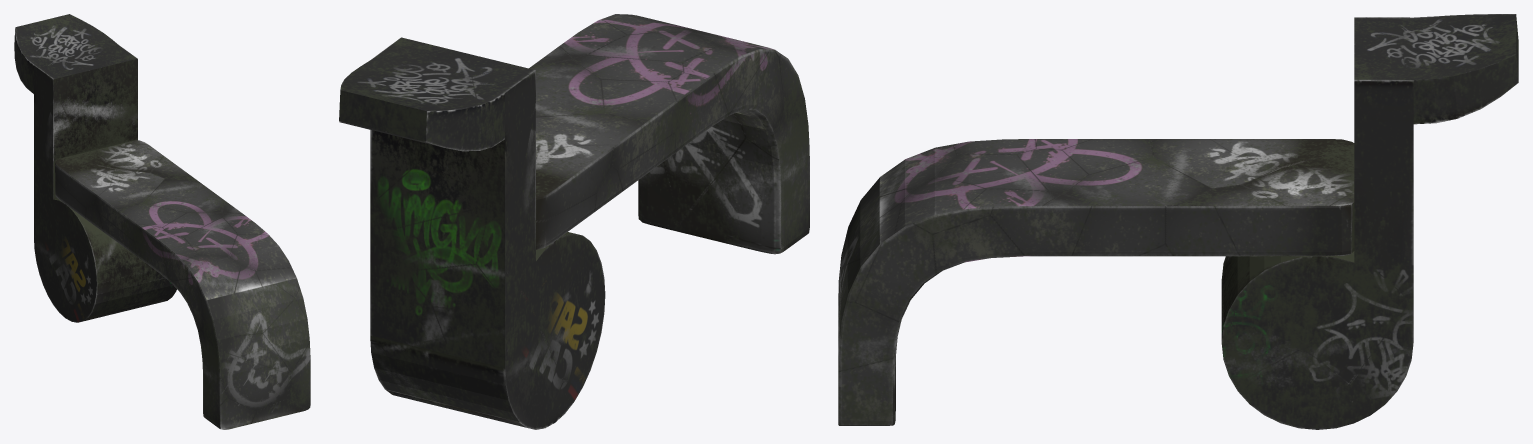
Rendered from Ext_BancoDecorativo.glb.
3 views of the same model, side by side, from view 1: azimuth 30°, elevation 25°; view 2: azimuth 150°, elevation 25°; view 3: azimuth 270°, elevation 25° (orthographic). The views are drawn at different scales.
Visible parts, largest first — view 1: Ext_BancoDecorativo; view 2: Ext_BancoDecorativo; view 3: Ext_BancoDecorativo.
Boxes of the visible parts, x1,y1,x2,y2 form: Ext_BancoDecorativo: [14, 14, 310, 429]; Ext_BancoDecorativo: [339, 14, 809, 429]; Ext_BancoDecorativo: [838, 14, 1518, 429].
Bounding box in the file's own units: 0.4345 × 1.09 × 1.85.
1 material, 1 textured.
